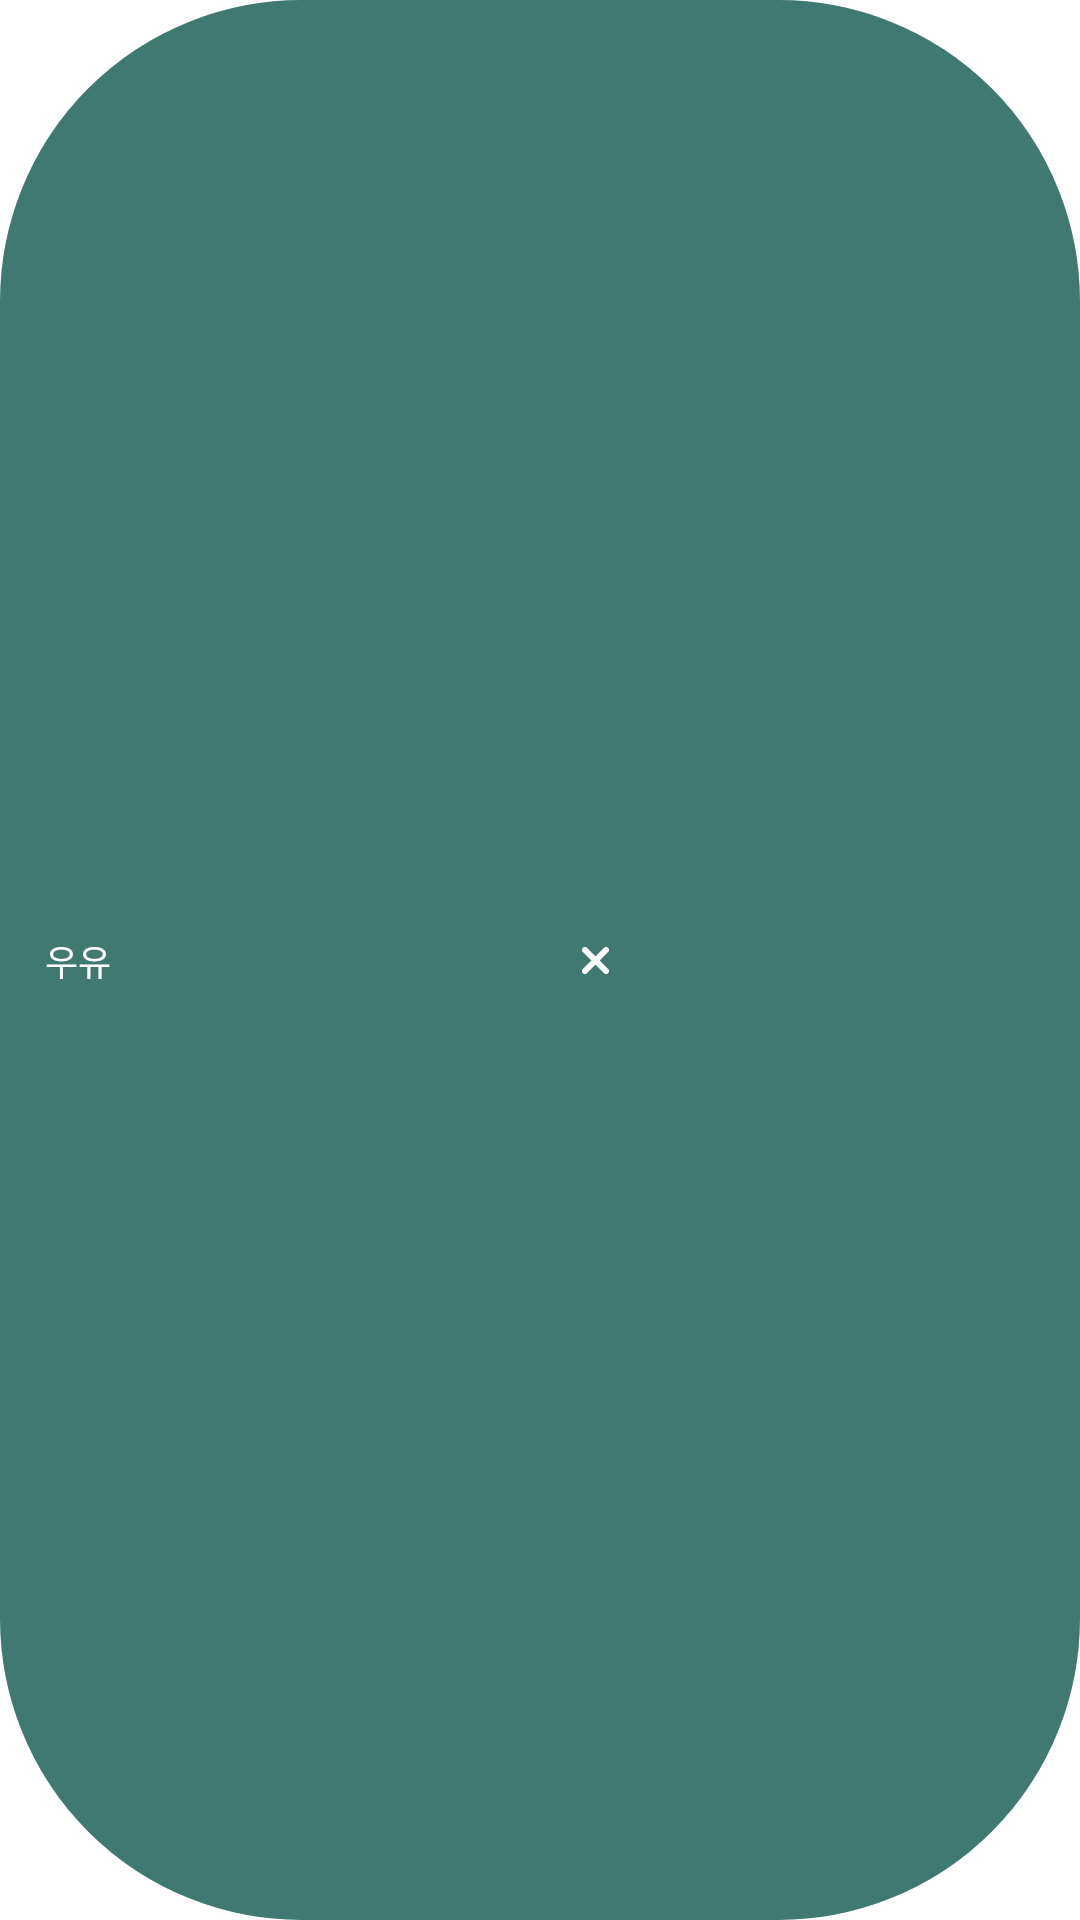

Where to tap for icons on this 1080 × 1920 app screen, as (x=x, y=y):
delete: (x=595, y=960)
